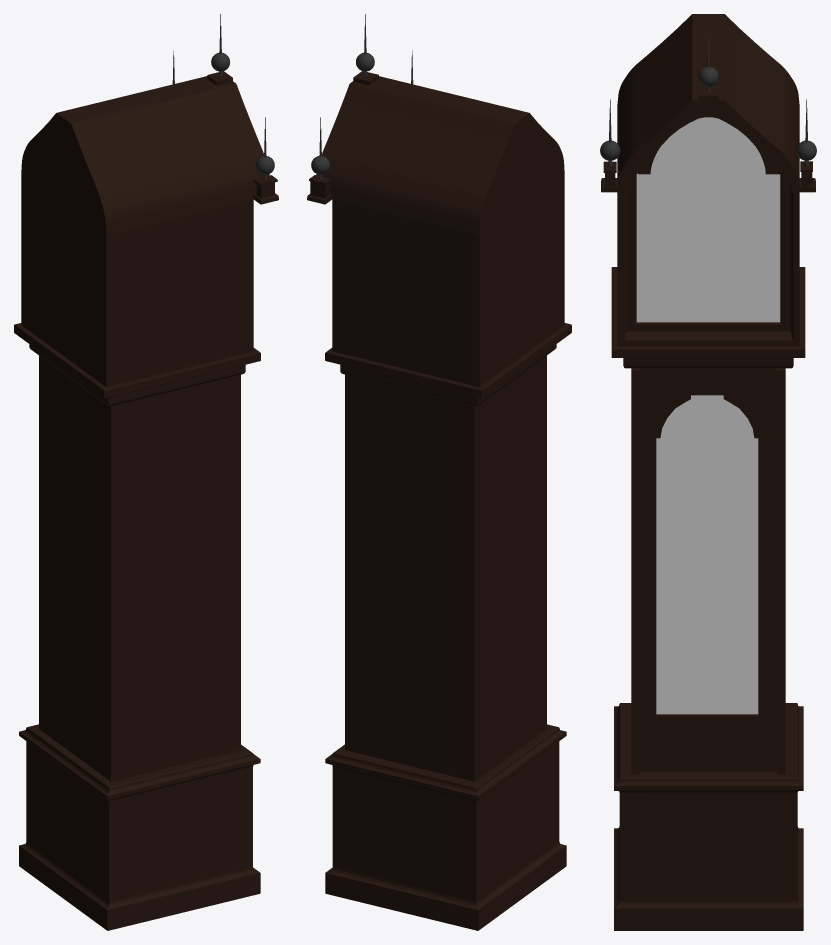
File: Vecna's Clock.fbx
The picture shows the model from 3 angles, left to right: view 1: azimuth 30°, elevation 25°; view 2: azimuth 150°, elevation 25°; view 3: azimuth 270°, elevation 25°; orthographic projection. The views are drawn at different scales.
Visible parts, largest first — view 1: Base, DetailsTop; view 2: Base, DetailsTop; view 3: Base, Glass, DetailsTop.
Boxes of the visible parts, x1,y1,x2,y2 form: Base: (14,71,278,930); DetailsTop: (172,14,274,180); Base: (307,71,571,930); DetailsTop: (311,14,413,179); Base: (601,14,815,930); Glass: (636,117,780,714); DetailsTop: (600,25,816,166).
Bounding box in the file's own units: 272 × 1298 × 281.
